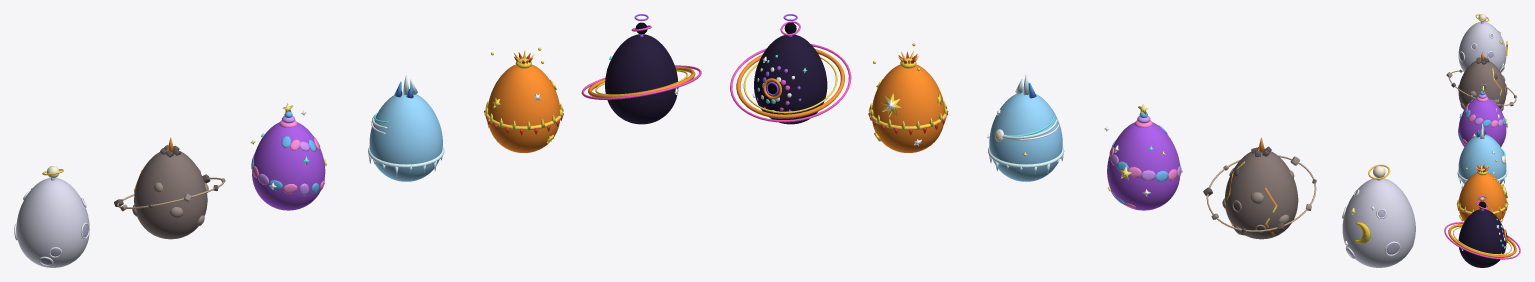
Rendered from pack_space_eggs.fbx.
3 views of the same model, side by side, from view 1: azimuth 30°, elevation 25°; view 2: azimuth 150°, elevation 25°; view 3: azimuth 270°, elevation 25° (orthographic). The views are drawn at different scales.
Parts seen in each view (by area): view 1: egg_blackhole, egg_asteroid, egg_supernova, egg_comet, egg_nebula, egg_moon; view 2: egg_blackhole, egg_asteroid, egg_supernova, egg_comet, egg_moon, egg_nebula; view 3: egg_blackhole, egg_asteroid, egg_supernova, egg_moon, egg_comet, egg_nebula.
Part boxes in pixels (x1,y1,x2,y2): egg_blackhole: (581, 14, 701, 124); egg_asteroid: (114, 137, 225, 239); egg_supernova: (484, 47, 563, 152); egg_comet: (368, 75, 444, 181); egg_nebula: (250, 103, 326, 210); egg_moon: (14, 166, 89, 267); egg_blackhole: (730, 14, 851, 124); egg_asteroid: (1203, 137, 1316, 239); egg_supernova: (868, 43, 948, 152); egg_comet: (987, 75, 1064, 181); egg_moon: (1342, 164, 1415, 267); egg_nebula: (1104, 104, 1182, 210); egg_blackhole: (1444, 196, 1520, 267); egg_asteroid: (1446, 52, 1516, 111); egg_supernova: (1456, 160, 1508, 222); egg_moon: (1458, 14, 1507, 72); egg_comet: (1457, 123, 1507, 184); egg_nebula: (1458, 86, 1507, 147).
Size of the model in its own units: 51.47 by 7.61 by 7.77.
Materials: 6 (6 with a texture image).
